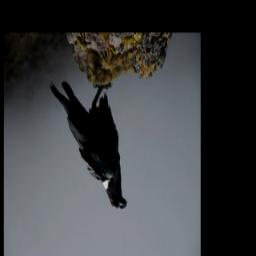Crow: (48, 75, 127, 216)
